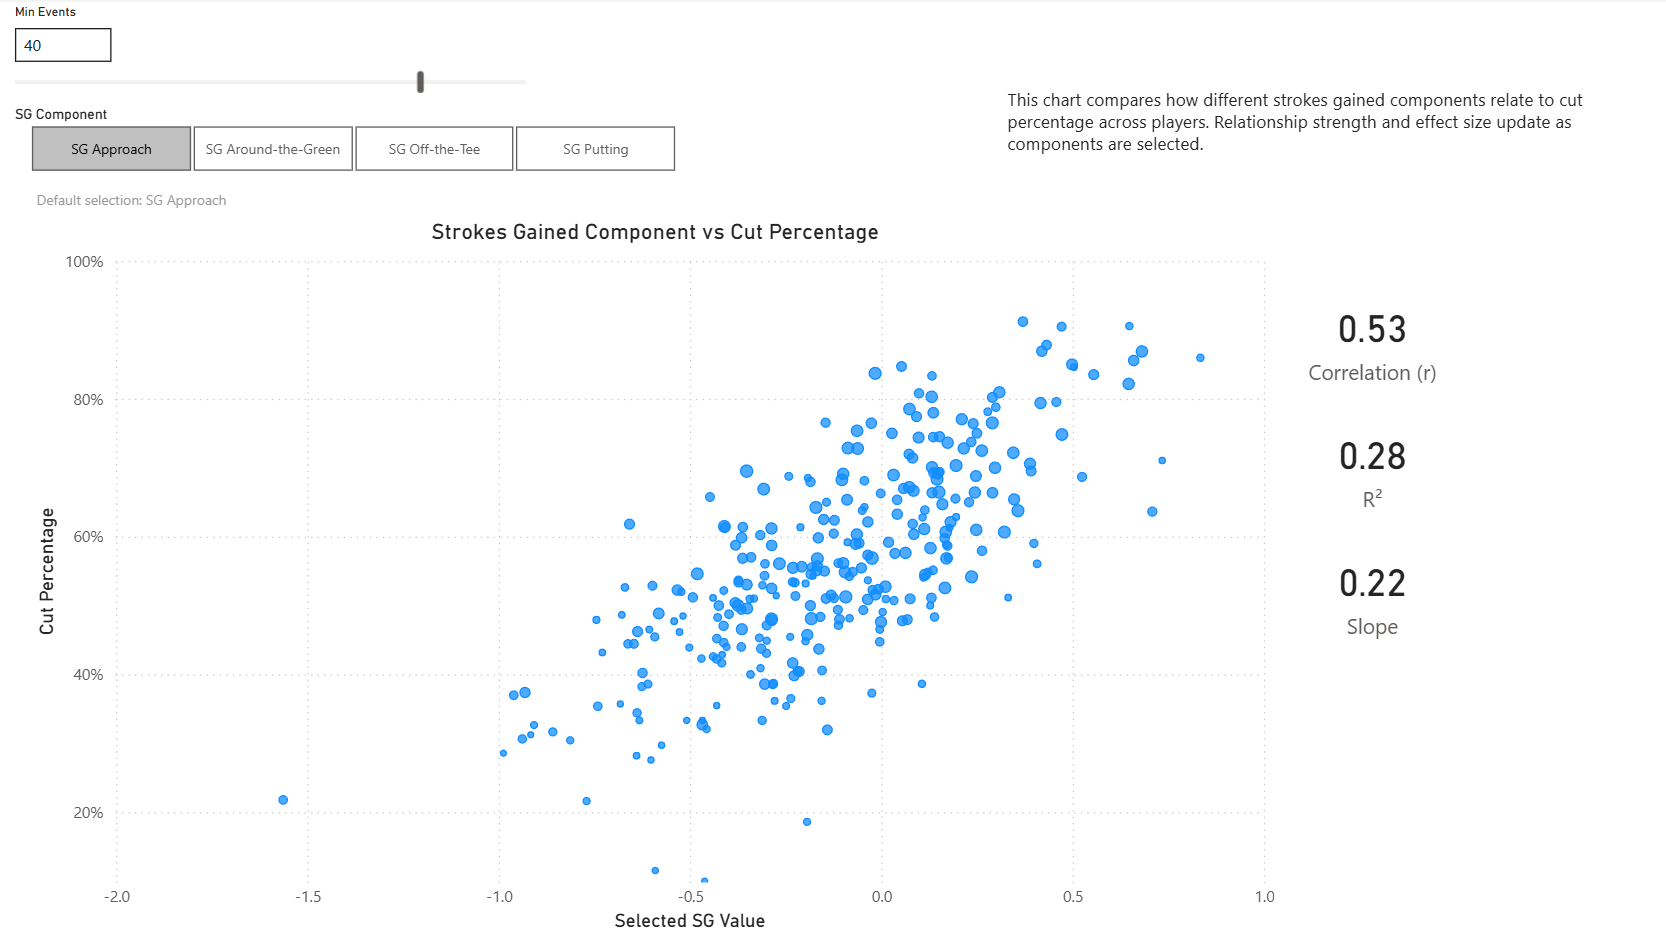

This screenshot's page, from the dashboard's own definition file:
{"tool":"powerbi","page":{"name":"SG Components vs Cut Percentage","canvas":[1280,720],"ordinal":2},"visuals":[{"type":"scatterChart","title":"Strokes Gained Component vs Cut Percentage","fields":{"X":["Event Results.Selected SG Value"],"Y":["Event Results.Cut %"],"Category":["Players.player_name"],"Size":["Event Results.Events Played"]},"box":[24.8,168.7,958.7,551.3],"z":0},{"type":"slicer","fields":{"Values":["SG Category.SG Component"]},"box":[0,77.4,543.3,62.1],"z":1000},{"type":"card","fields":{"Values":["Event Results.Correlation"]},"box":[983.5,213.9,140.2,97.1],"z":2000},{"type":"card","fields":{"Values":["Event Results.R^2 with Cut %"]},"box":[983.5,311.1,140.2,97.1],"z":3000},{"type":"card","fields":{"Values":["Event Results.Slope (Cut % per +1 SG)"]},"box":[983.5,408.2,140.2,97.1],"z":4000},{"type":"slicer","fields":{"Values":["Min Events.Min Events"]},"box":[0,0,419.1,77.4],"z":5000},{"type":"textbox","box":[24.8,139.5,167.2,29.2],"z":6000},{"type":"textbox","box":[768.9,63.5,484.3,68.7],"z":7000}]}

Visuals, with their boxes in screenshot pixels (x1, y1, x2, y2), scaled from the page's 1280x720 canvas onto the 1666x934 screenshot:
"Strokes Gained Component vs Cut Percentage" scatterChart: l=32, t=219, r=1280, b=933
slicer - SG Category.SG Component: l=0, t=100, r=707, b=181
card - Event Results.Correlation: l=1280, t=277, r=1463, b=403
card - Event Results.R^2 with Cut %: l=1280, t=404, r=1463, b=530
card - Event Results.Slope (Cut % per +1 SG): l=1280, t=530, r=1463, b=655
slicer - Min Events.Min Events: l=0, t=0, r=545, b=100
textbox: l=32, t=181, r=250, b=219
textbox: l=1001, t=82, r=1631, b=171
